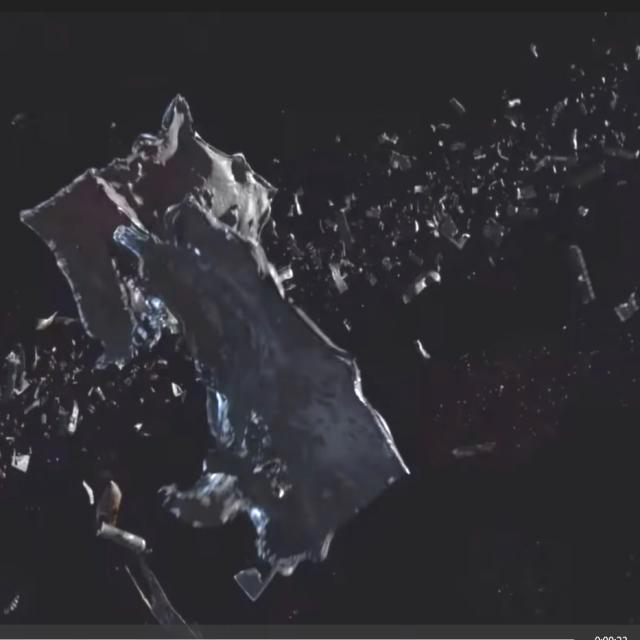large_debris: (21, 94, 433, 516), (75, 476, 157, 561), (565, 237, 604, 317), (7, 347, 35, 401), (34, 300, 60, 340)
